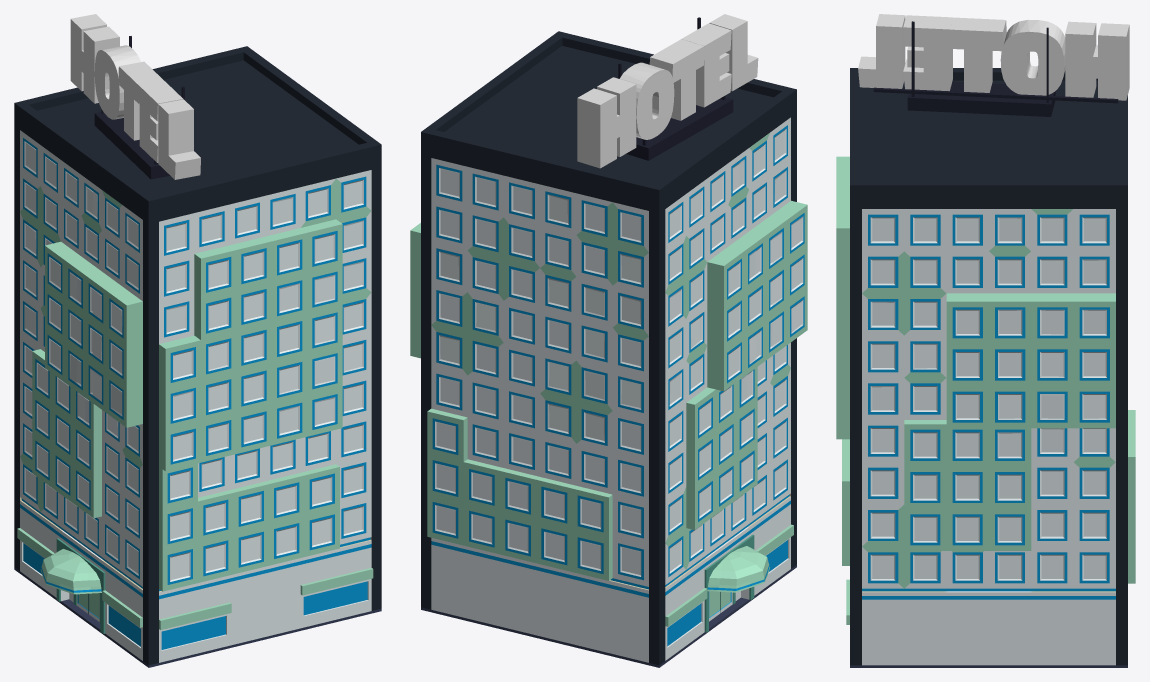
Rendered from Building_IceboxGhostLuxuryHotel.fbx.
The picture shows the model from 3 angles, left to right: view 1: azimuth 30°, elevation 25°; view 2: azimuth 150°, elevation 25°; view 3: azimuth 270°, elevation 25°; orthographic projection. The views are drawn at different scales.
Parts seen in each view (by area): view 1: Cube.791, Text.002, Cylinder.343, DonutStand.001; view 2: Cube.791, Text.002, DonutStand.001, Cylinder.343; view 3: Cube.791, Text.002, DonutStand.001.
Boxes of the visible parts, x1,y1,x2,y2 form: Cube.791: (14, 46, 381, 667); Text.002: (70, 14, 200, 179); Cylinder.343: (40, 549, 101, 594); DonutStand.001: (94, 36, 184, 179); Cube.791: (410, 31, 807, 667); Text.002: (577, 14, 758, 168); DonutStand.001: (618, 17, 733, 160); Cylinder.343: (707, 546, 769, 592); Cube.791: (836, 68, 1135, 667); Text.002: (858, 14, 1129, 100); DonutStand.001: (873, 21, 1118, 116).
Bounding box in the file's own units: 1245 × 2268 × 1097.
